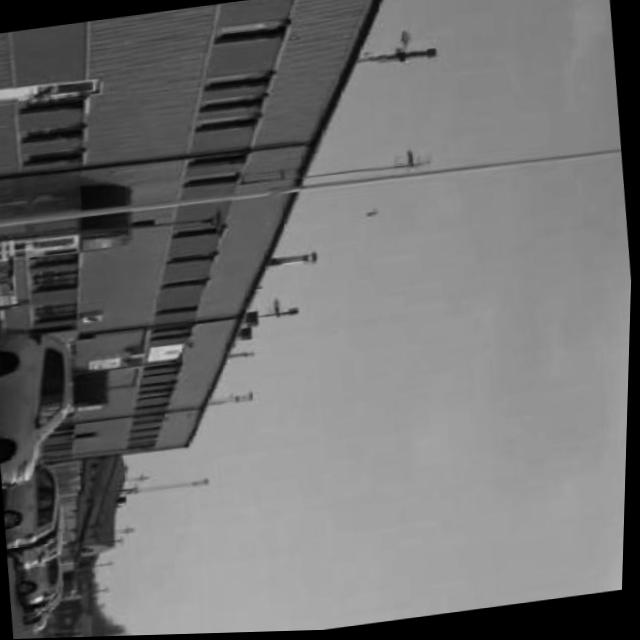helikopter: (360, 206, 387, 224)
